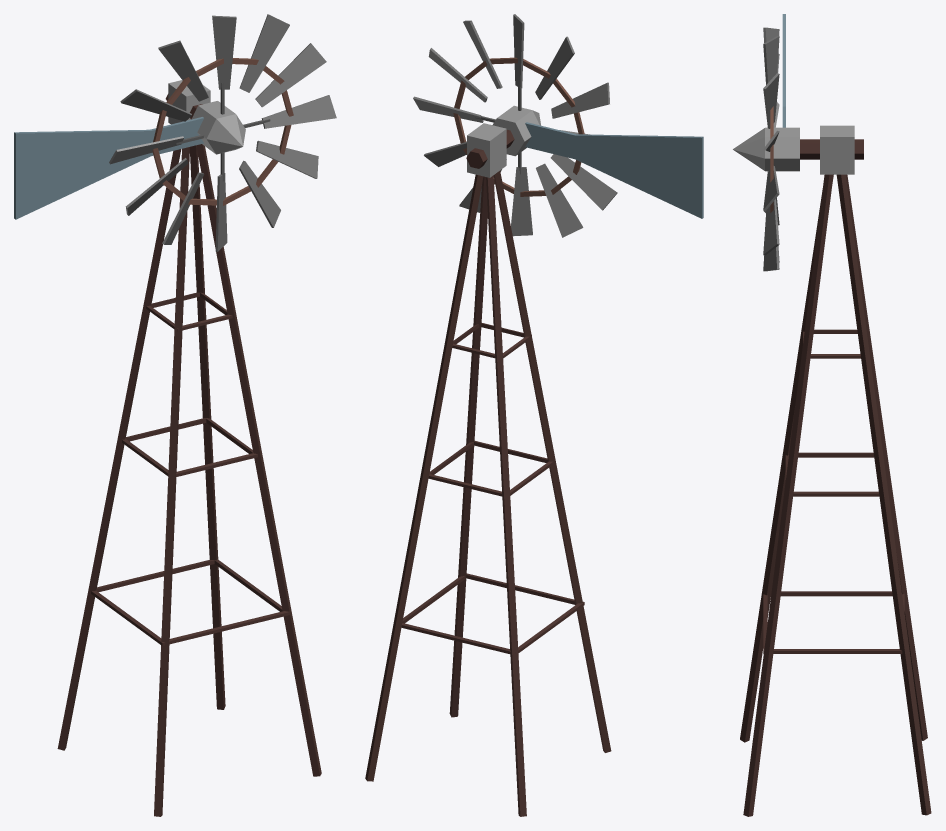
Rendered from Building_022.glb.
3 renders of one model, left to right at view 1: azimuth 30°, elevation 25°; view 2: azimuth 150°, elevation 25°; view 3: azimuth 270°, elevation 25°, orthographic. The views are drawn at different scales.
Visible parts, largest first — view 1: Building_022; view 2: Building_022; view 3: Building_022.
Boxes of the visible parts, box(x1,y1,x2,y2) form: Building_022: box(14, 14, 336, 816); Building_022: box(365, 14, 703, 816); Building_022: box(733, 14, 931, 816).
Size of the model in its own units: 11.05 by 26.16 by 6.39.
1 material, 1 textured.
